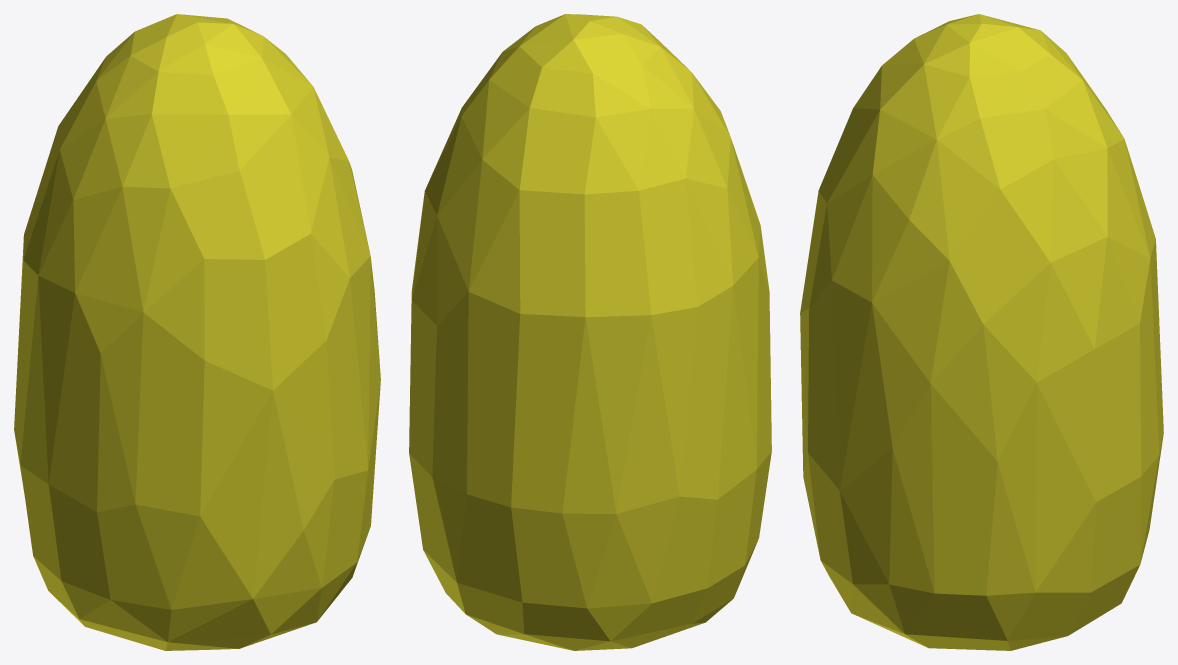
Rendered from Plant_10.fbx.
3 views of the same model, side by side, from view 1: azimuth 30°, elevation 25°; view 2: azimuth 150°, elevation 25°; view 3: azimuth 270°, elevation 25° (orthographic).
Parts seen in each view (by area): view 1: Plant_10; view 2: Plant_10; view 3: Plant_10.
Boxes of the visible parts, bbox=[...] form: Plant_10: bbox=[14, 14, 380, 650]; Plant_10: bbox=[409, 14, 771, 650]; Plant_10: bbox=[800, 14, 1163, 650].
Bounding box in the file's own units: 46.39 × 84.33 × 46.36.
